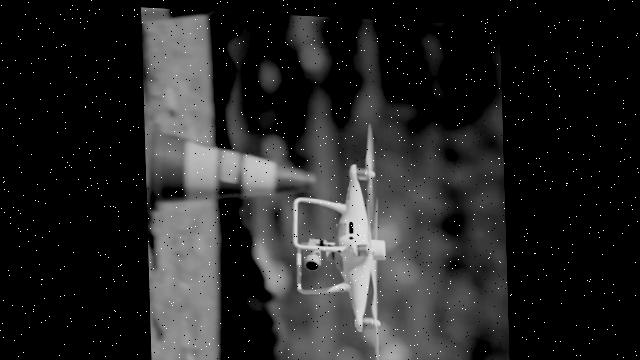drone: (287, 114, 387, 360)
